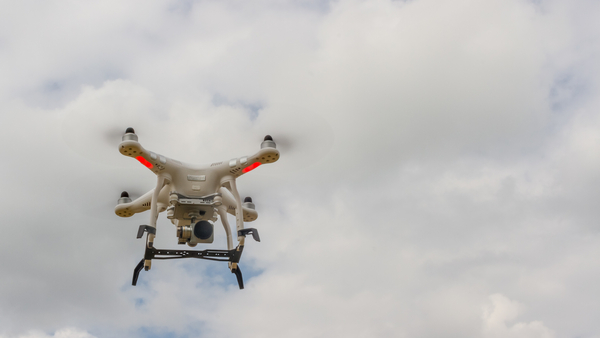drone: (111, 124, 284, 292)
